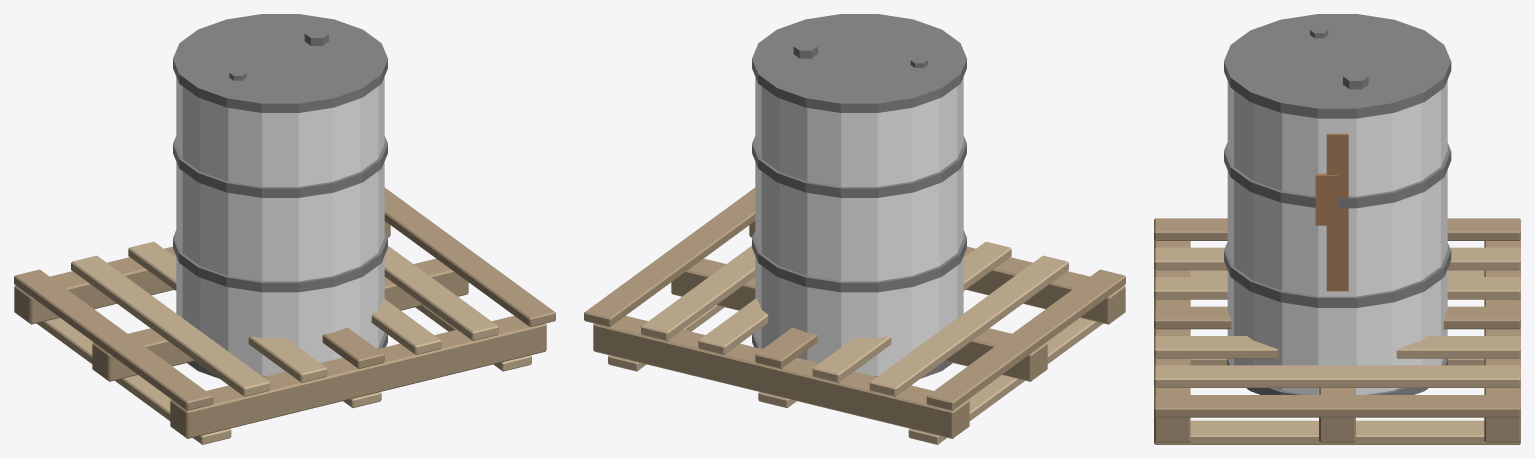
Rendered from shed_yard.glb.
3 views of the same model, side by side, from view 1: azimuth 30°, elevation 25°; view 2: azimuth 150°, elevation 25°; view 3: azimuth 270°, elevation 25° (orthographic). The views are drawn at different scales.
Visible parts, largest first — view 1: ws_pallet_mesh, ws_drum_paint_mesh, ws_drum_trim_mesh; view 2: ws_pallet_mesh, ws_drum_paint_mesh, ws_drum_trim_mesh; view 3: ws_pallet_mesh, ws_drum_paint_mesh, ws_drum_trim_mesh.
Part boxes in pixels (x1,y1,x2,y2): ws_pallet_mesh: [14, 187, 555, 444]; ws_drum_paint_mesh: [176, 77, 384, 375]; ws_drum_trim_mesh: [173, 14, 387, 378]; ws_pallet_mesh: [584, 187, 1125, 444]; ws_drum_paint_mesh: [755, 77, 963, 375]; ws_drum_trim_mesh: [752, 14, 966, 378]; ws_pallet_mesh: [1154, 218, 1520, 444]; ws_drum_paint_mesh: [1227, 80, 1447, 394]; ws_drum_trim_mesh: [1224, 14, 1451, 394].
Size of the model in its own units: 1.23 by 0.925 by 1.
